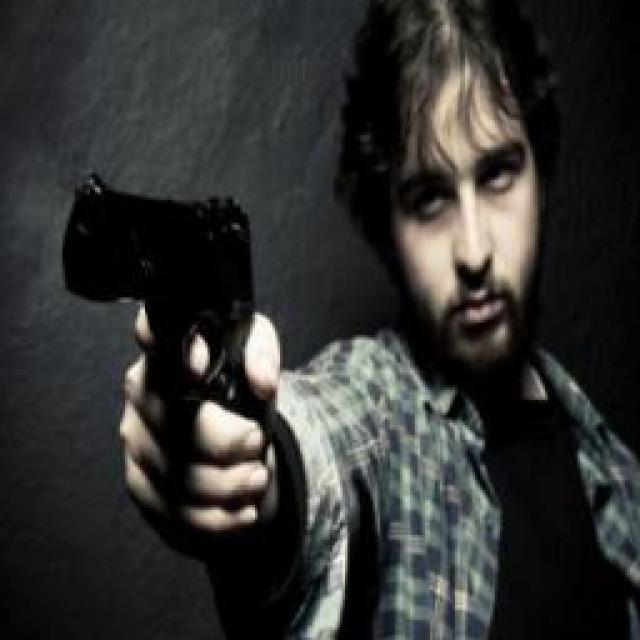pistol: (55, 165, 267, 434)
